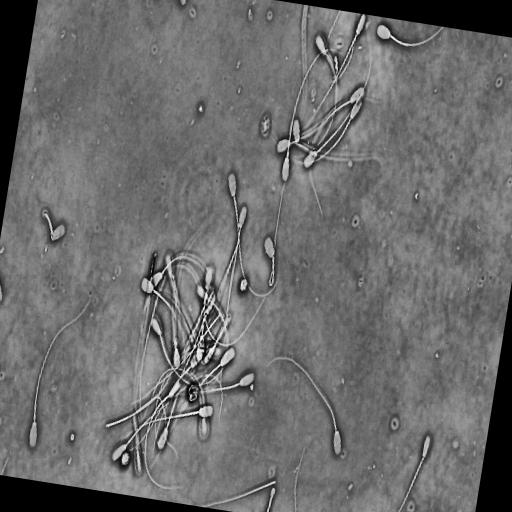coiled-tail: (43, 211, 52, 239)
dirt-particles: (237, 275, 249, 295)
folded-tail: (272, 166, 293, 261), (268, 265, 273, 286)
loose-head: (176, 0, 187, 9)
loose-tail: (104, 369, 173, 430), (196, 476, 277, 508)
normal: (27, 291, 94, 452), (288, 14, 368, 137), (280, 44, 347, 185), (264, 352, 345, 461), (223, 169, 283, 300), (139, 275, 203, 388), (268, 95, 363, 168), (148, 315, 237, 390), (110, 404, 213, 463), (218, 201, 248, 392), (262, 162, 297, 292), (391, 428, 434, 512), (374, 22, 446, 50), (36, 204, 70, 251)
proximal-droplet: (286, 151, 288, 157)
